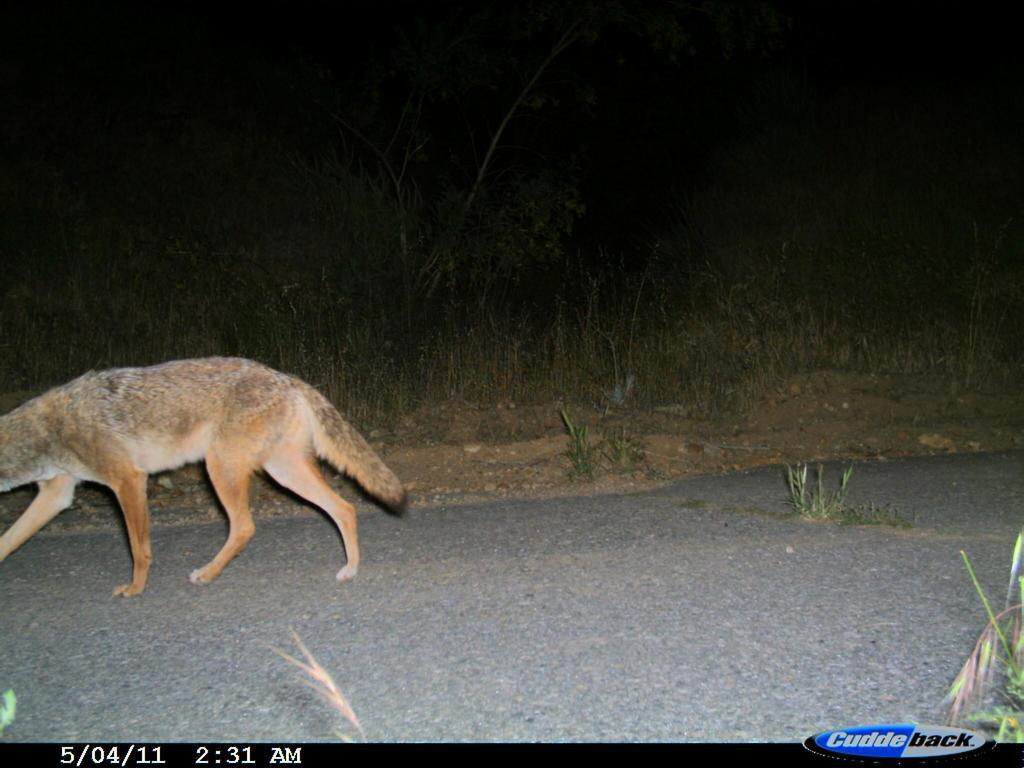coyote: (1, 355, 413, 601)
